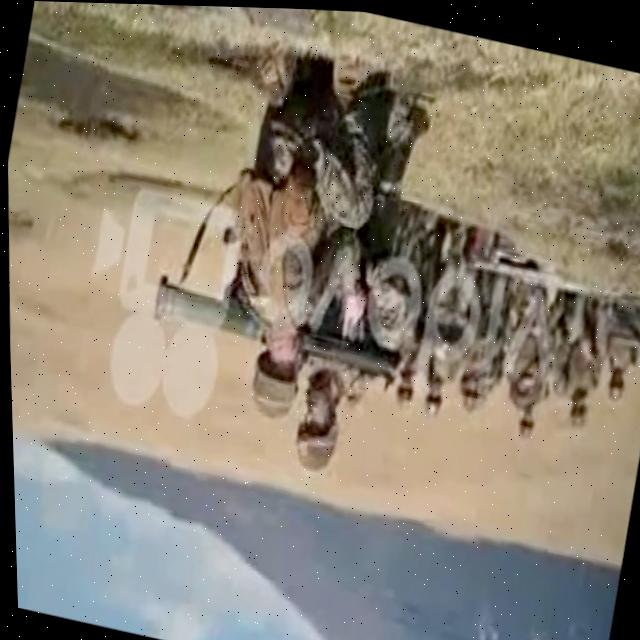rocket: (145, 274, 403, 385)
